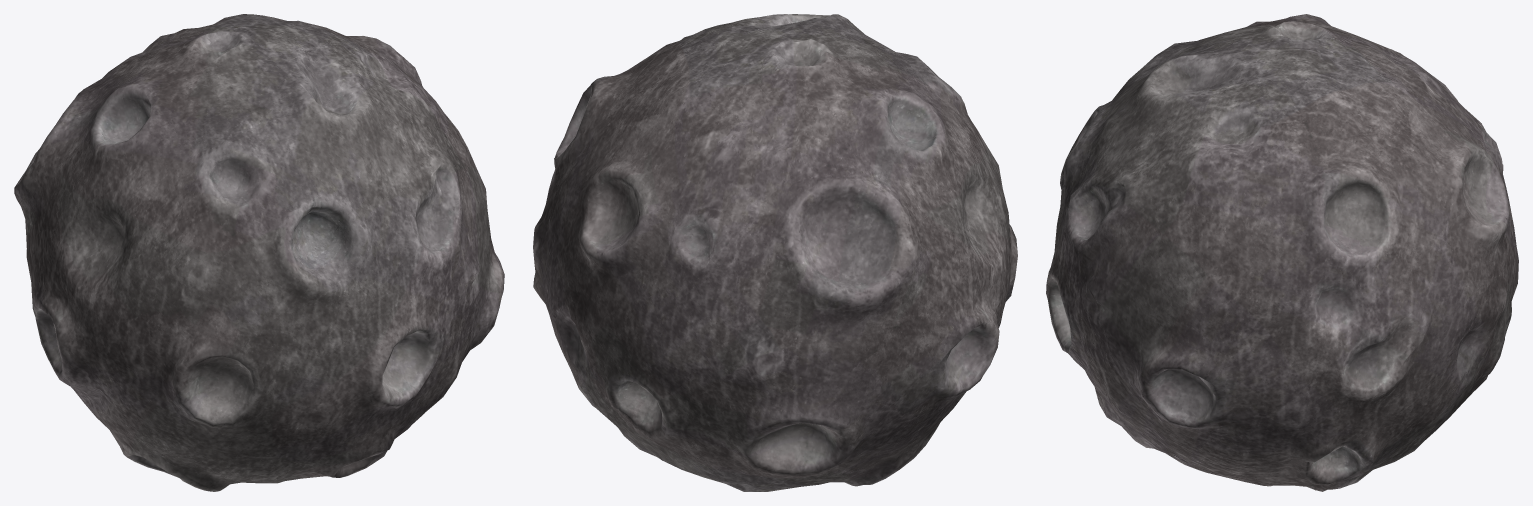
File: phobos.glb
3 views of the same model, side by side, from view 1: azimuth 30°, elevation 25°; view 2: azimuth 150°, elevation 25°; view 3: azimuth 270°, elevation 25° (orthographic).
Visible parts, largest first — view 1: _gltfNode_0; view 2: _gltfNode_0; view 3: _gltfNode_0.
Boxes of the visible parts, <box> form: _gltfNode_0: <box>14,14,504,491</box>; _gltfNode_0: <box>533,14,1017,491</box>; _gltfNode_0: <box>1046,14,1518,491</box>.
Size of the model in its own units: 206 by 204 by 206.
1 material, 1 textured.
